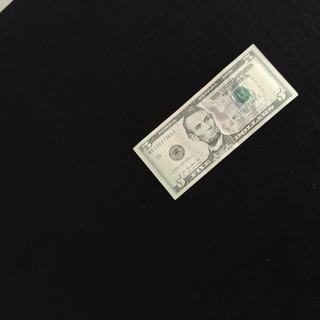5USDFront: (131, 43, 299, 200)
